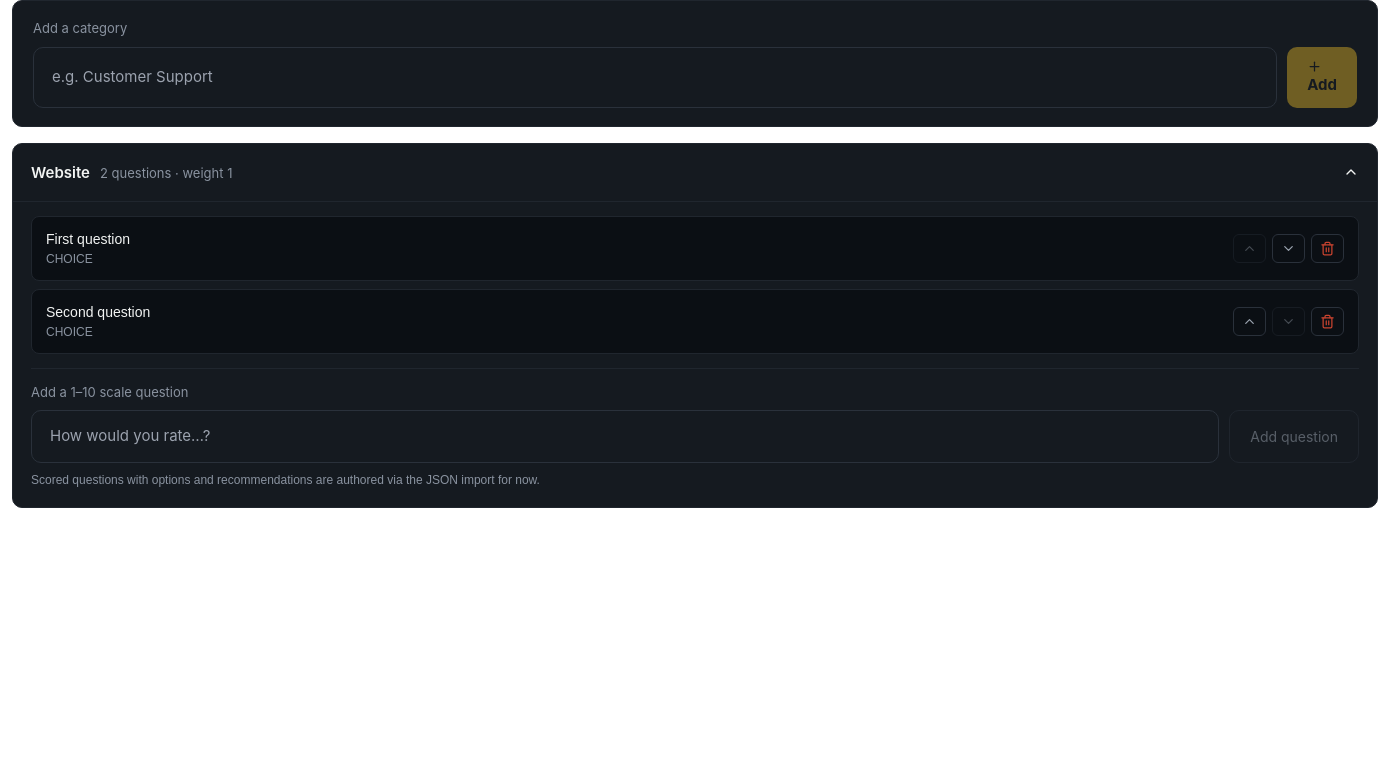
Test: QuestionManager › derives a slug from the new category name
Expected: the text "Website" is shown, [31,163,90,182]
Type "Customer Support & Care" into the field labelled "Add a category" at point(655, 77), box [33,46,1277,108]
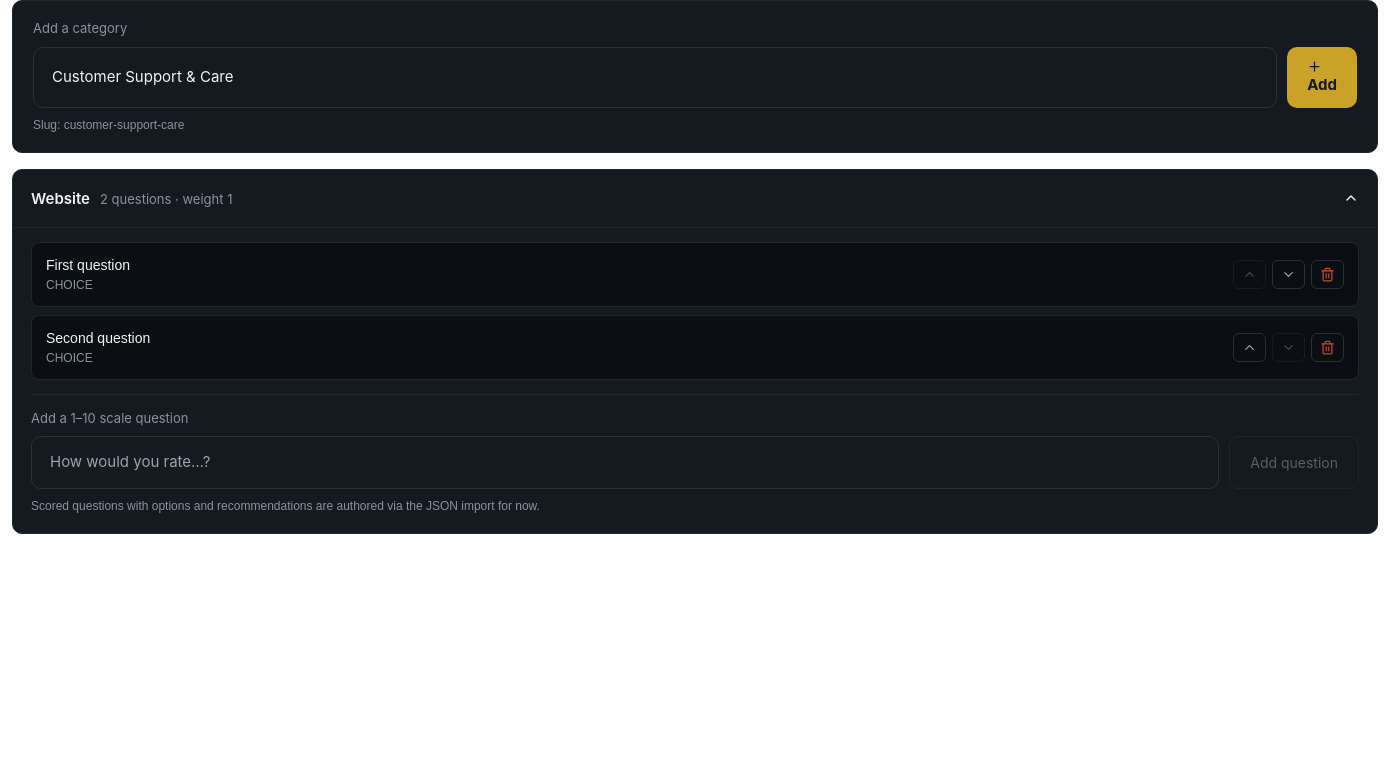
Result: the text "Slug: customer-support-care" is shown at [33,118,184,132]
